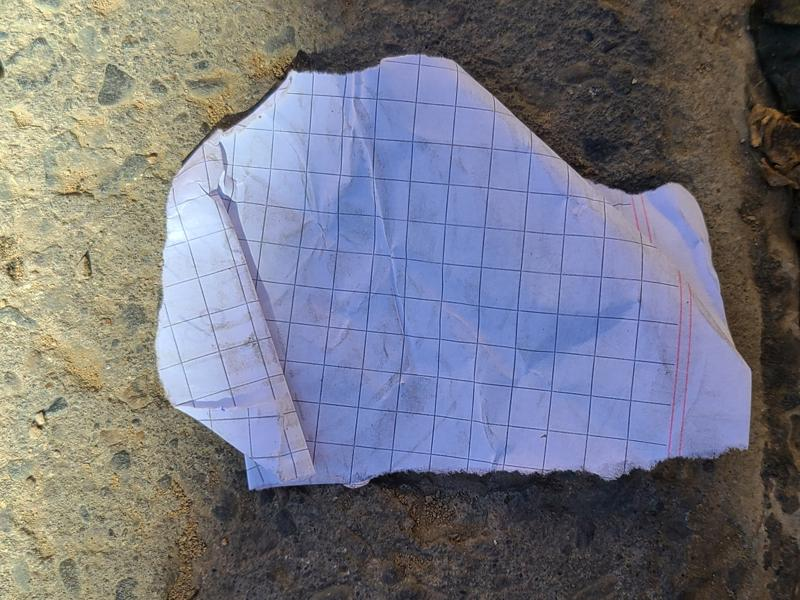papel: (154, 56, 754, 493)
